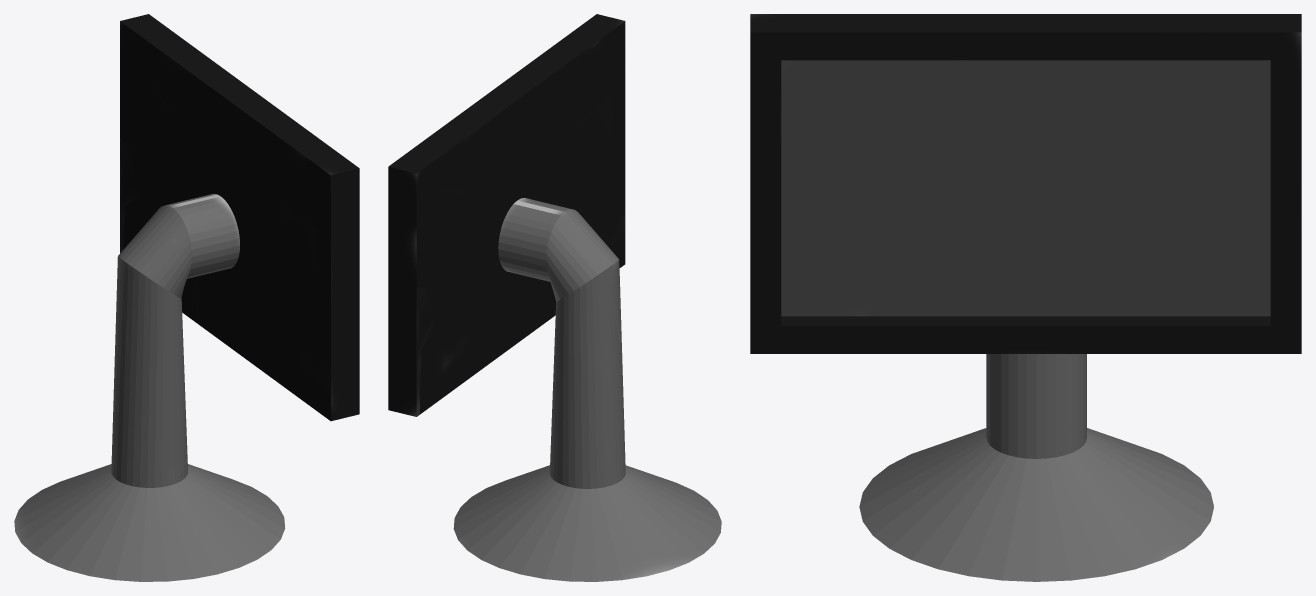
Rendered from Monitor.glb.
3 views of the same model, side by side, from view 1: azimuth 30°, elevation 25°; view 2: azimuth 150°, elevation 25°; view 3: azimuth 270°, elevation 25° (orthographic). The views are drawn at different scales.
Visible parts, largest first — view 1: Circle; view 2: Circle; view 3: Circle.
Boxes of the visible parts, box(x1,y1,x2,y2) form: Circle: box(14, 14, 359, 581); Circle: box(388, 14, 721, 581); Circle: box(750, 14, 1301, 581).
Size of the model in its own units: 2 by 3.35 by 3.11.
Materials: 1 (1 with a texture image).
